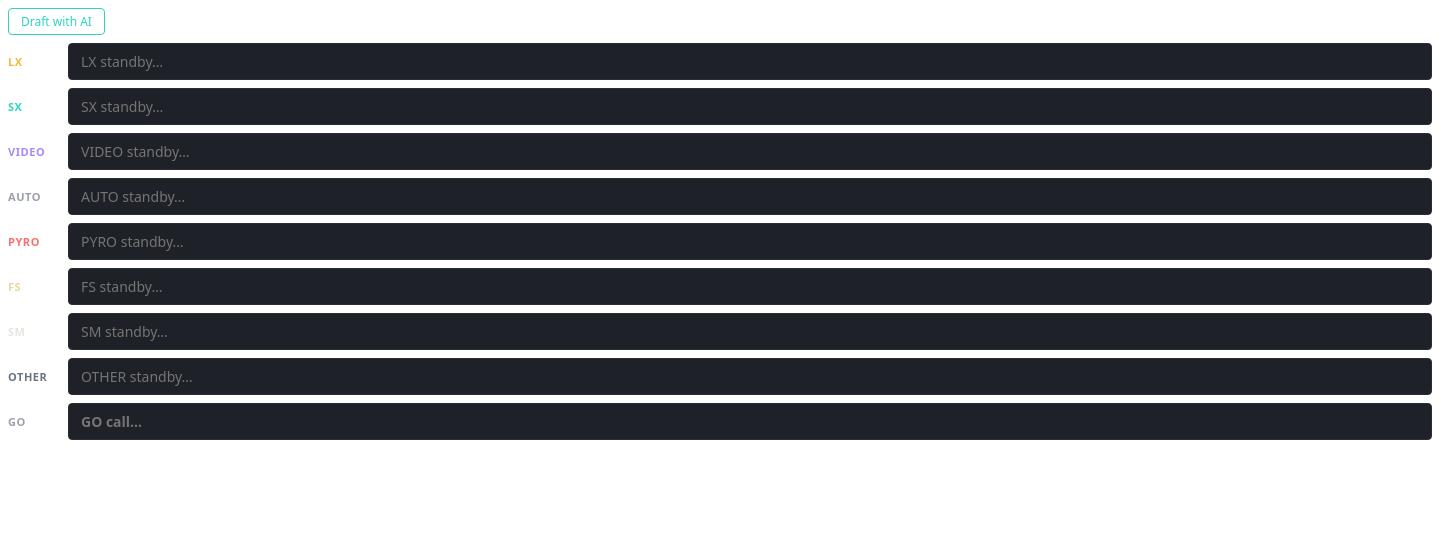
Test: CallerLinesEditor — Draft with AI › "Accept draft" applies the LLM lines and hides the panel
Click the button with test id "caller-ai-draft-btn".
click(56, 22)  # box top-left (8, 8), bottom-right (105, 35)
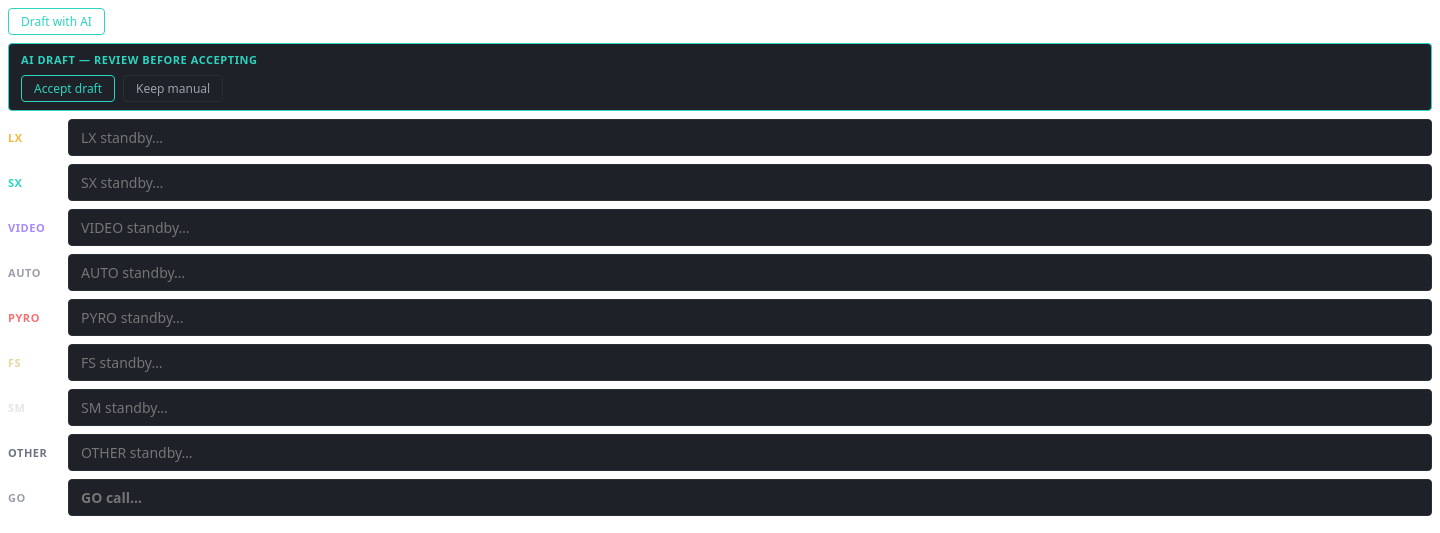
Check: the button with test id "caller-ai-draft-accept" is shown
Click the button with test id "caller-ai-draft-accept".
click(68, 88)  # box top-left (21, 75), bottom-right (115, 102)
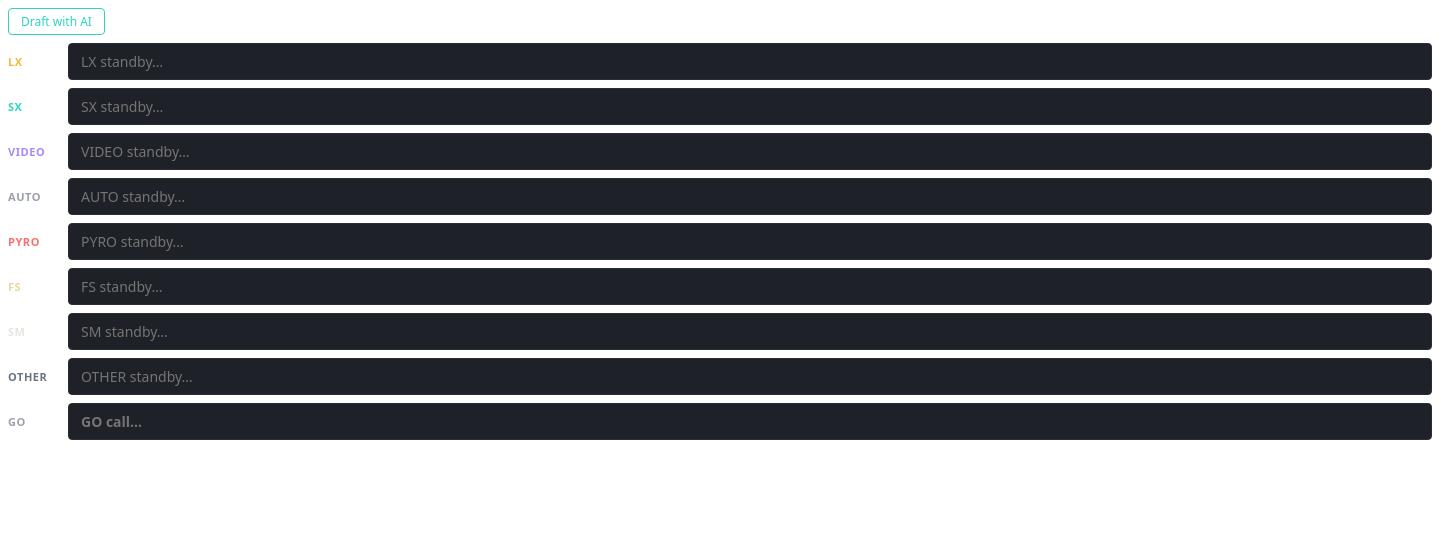
Check: the element with test id "caller-ai-draft-panel" is gone
